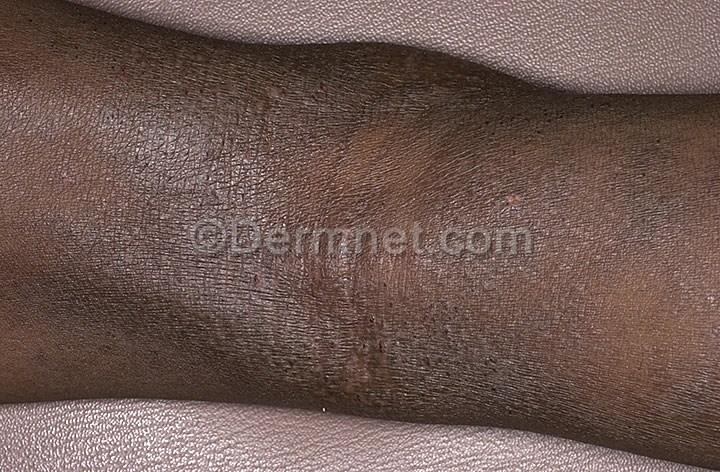liquenificacion 2: (17, 8, 720, 472)
xerosis 3: (1, 0, 720, 472)
